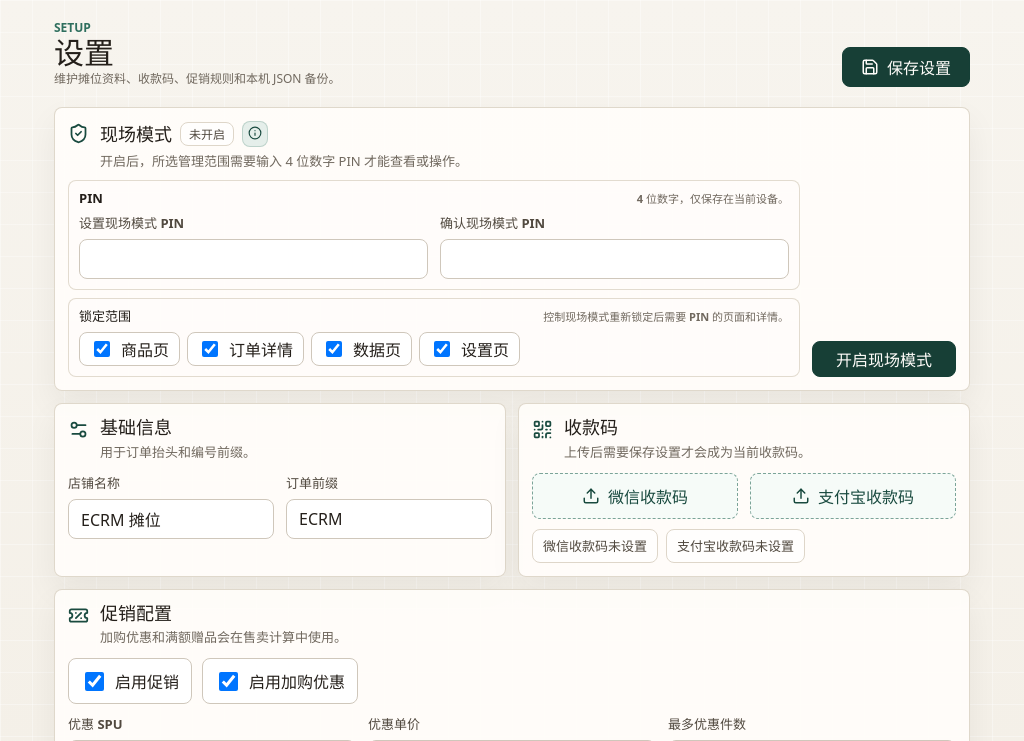
Test case: enables and saves field mode immediately after setting matching four digit PIN
Expected: the element "锁定范围" is shown, [68,298,800,377]
Expected: the checkbox named "锁定订单详情" is checked, [202,341,218,357]
Click the checkbox named "锁定商品页": click(102, 349) [94,341,110,357]
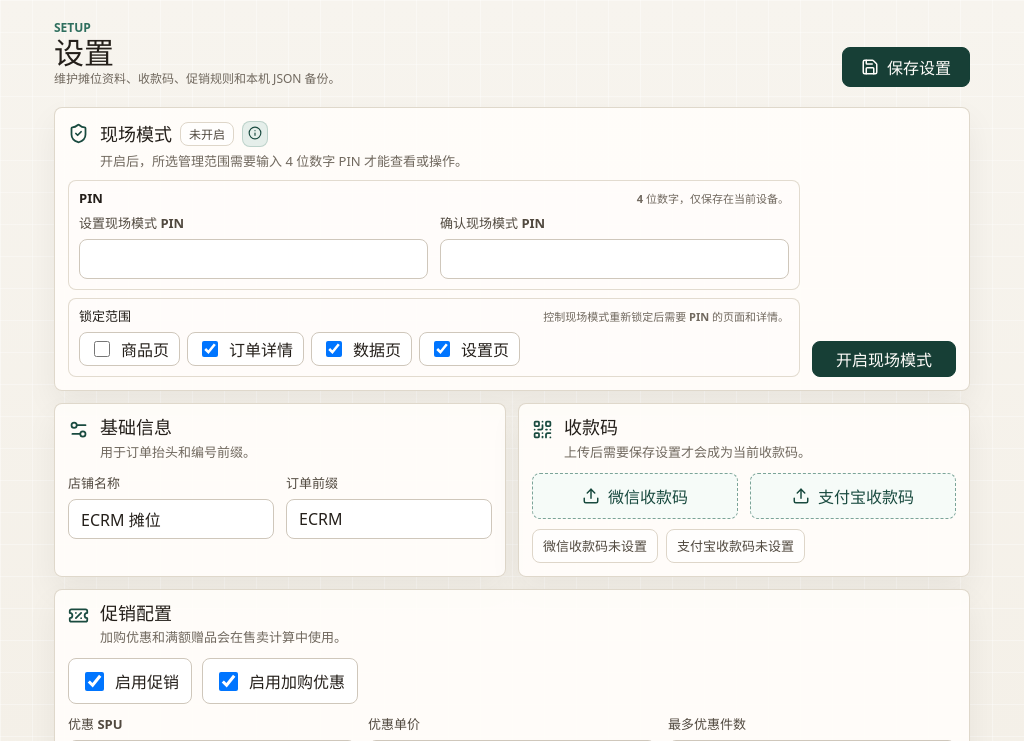
In the password field labelled "设置现场模式 PIN": (254, 259) [79,239,428,279], type "2580"
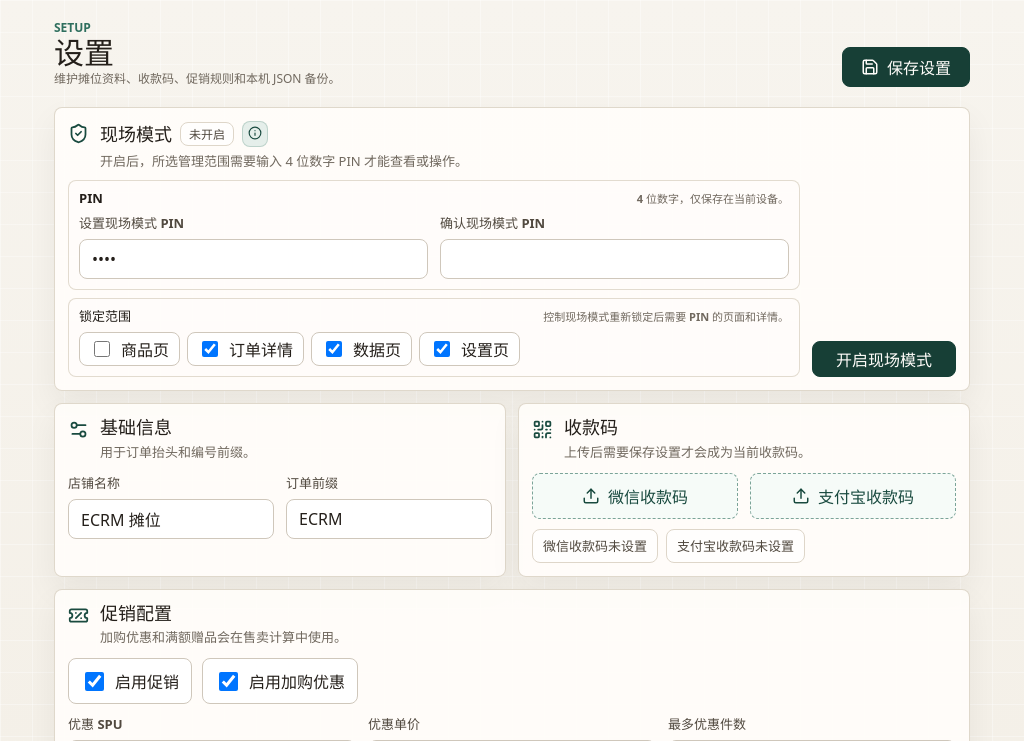
In the password field labelled "确认现场模式 PIN": (614, 259) [440,239,789,279], type "2580"
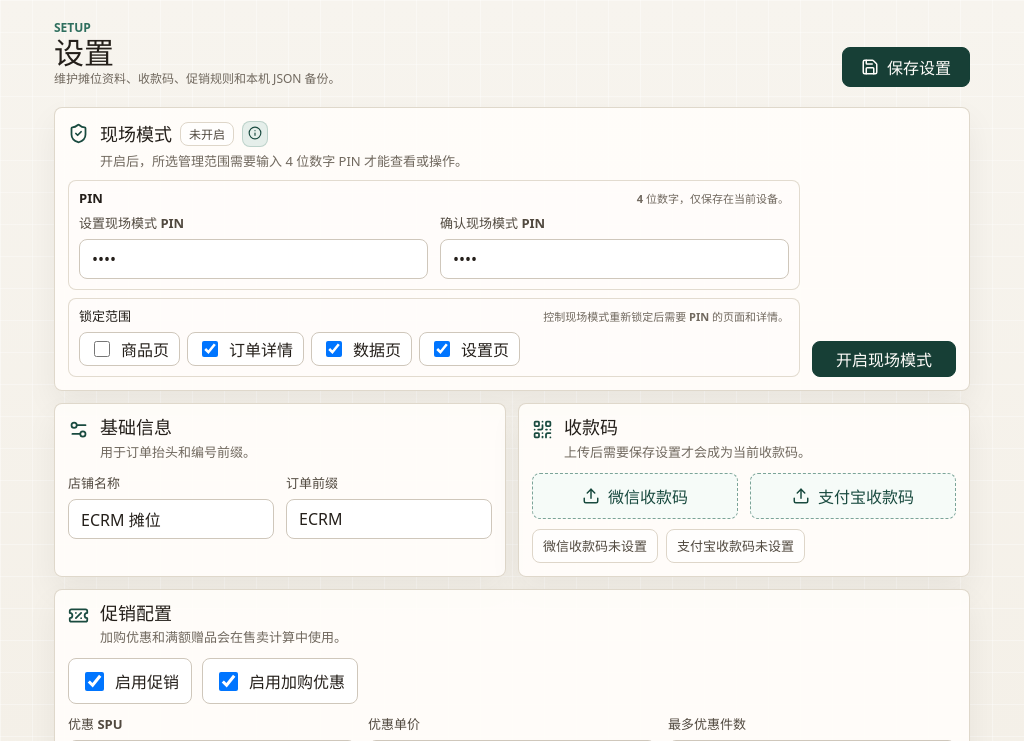
Click the button "开启现场模式": click(884, 359) [812,341,956,377]
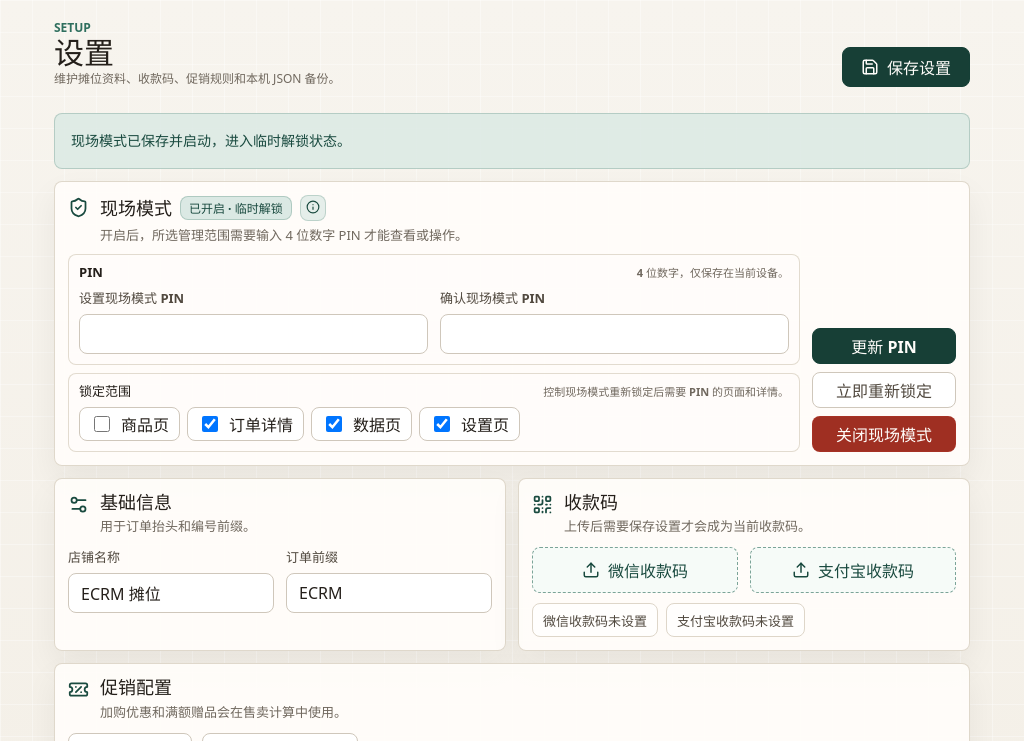
Result: the text "现场模式已保存并启动，进入临时解锁状态。" is shown at [54,113,970,169]
Result: the text "已开启 · 临时解锁" is shown at [180,196,292,220]
